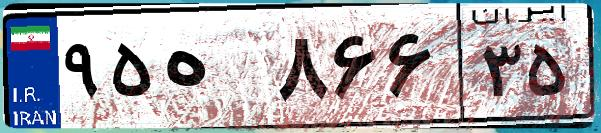3: (475, 38, 525, 113)
5: (525, 38, 570, 115), (110, 28, 158, 98)
6: (385, 28, 445, 110), (330, 28, 385, 110)
8: (270, 28, 330, 110)
9: (57, 26, 110, 100)
ه: (158, 20, 270, 120)
